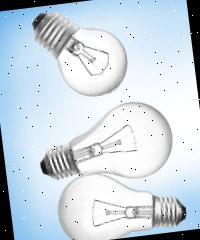lightbulb: (34, 97, 176, 190), (53, 161, 188, 240), (30, 3, 131, 103)
